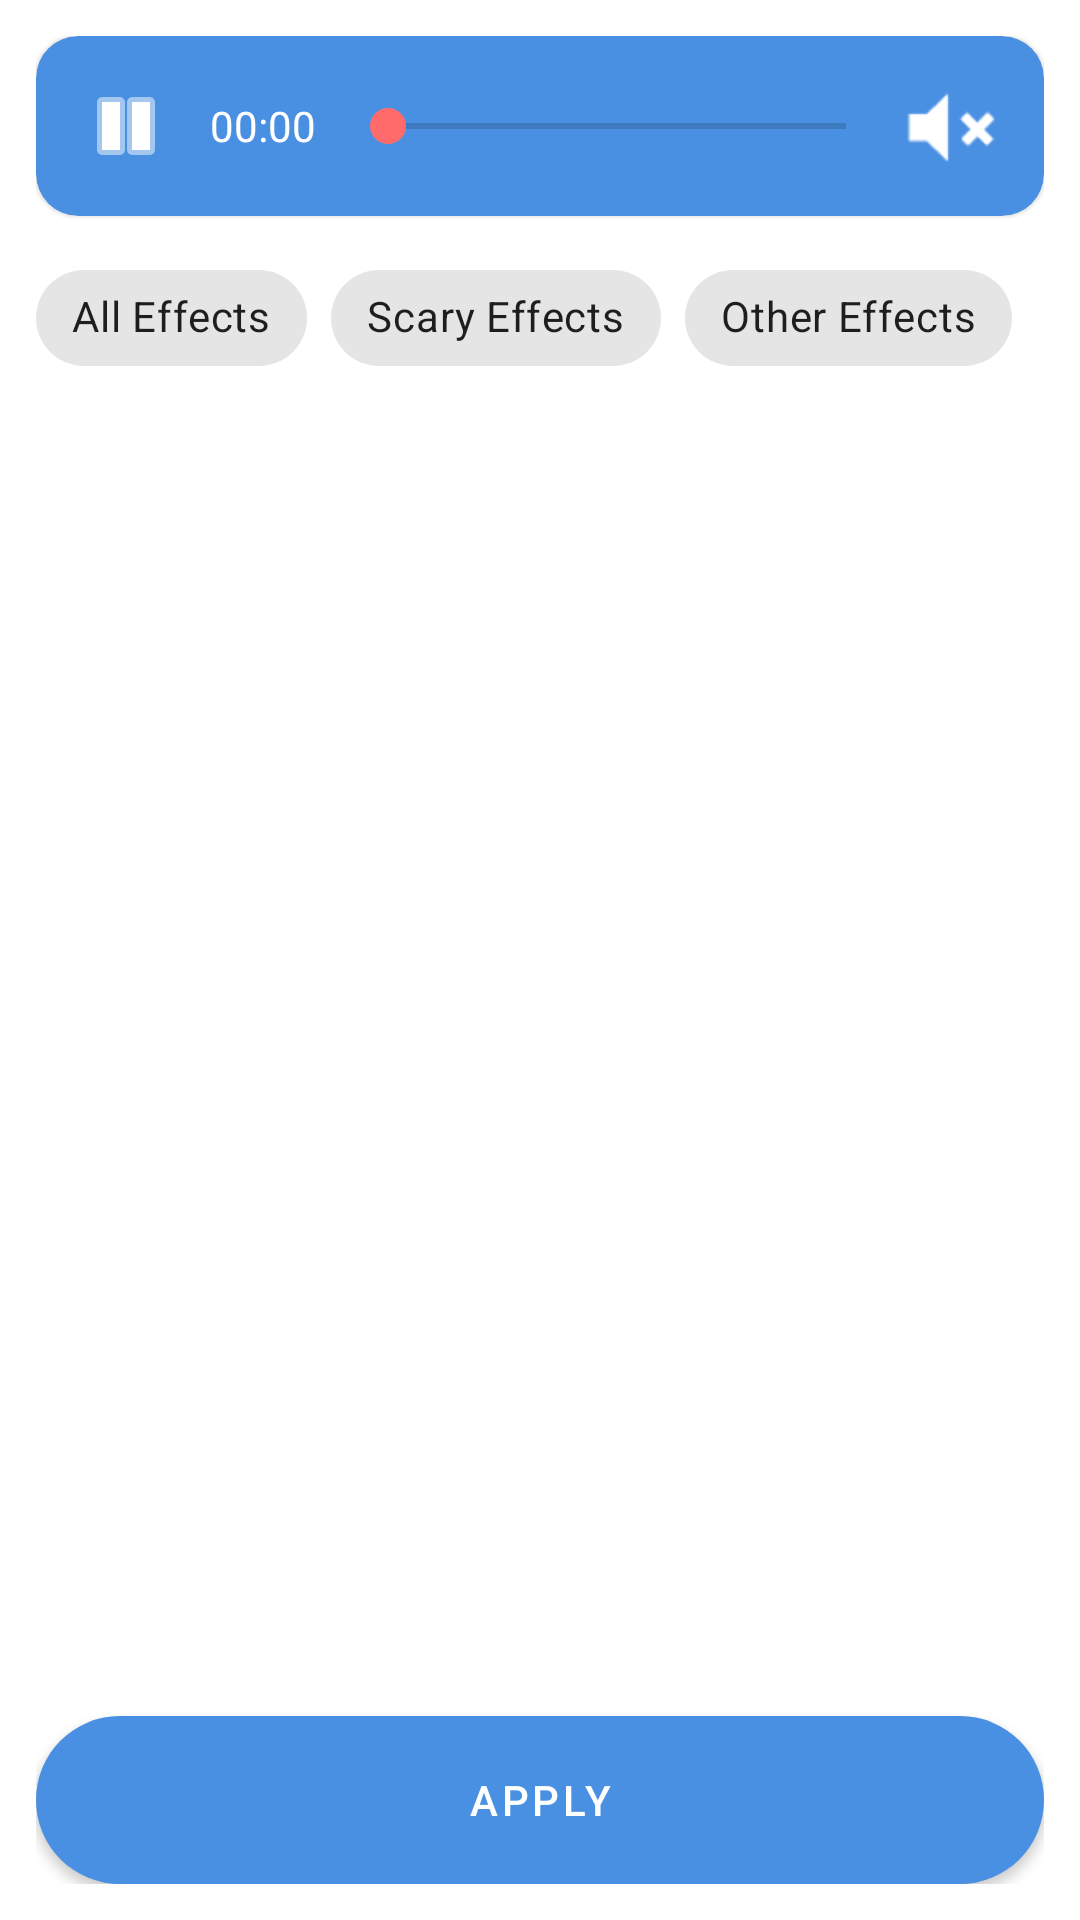

Where icons sit on this 1080x1920 app screen, as region(x1, y1, x2, y2):
Mute: region(907, 93, 995, 161)
Pause: region(97, 97, 155, 155)
